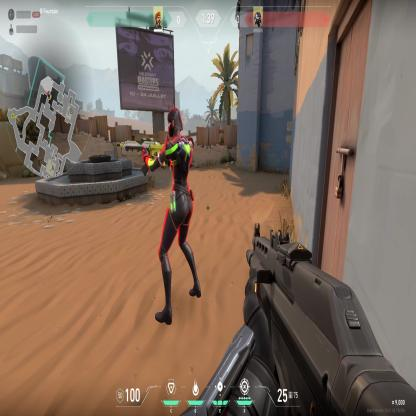enemy: (139, 105, 204, 327)
